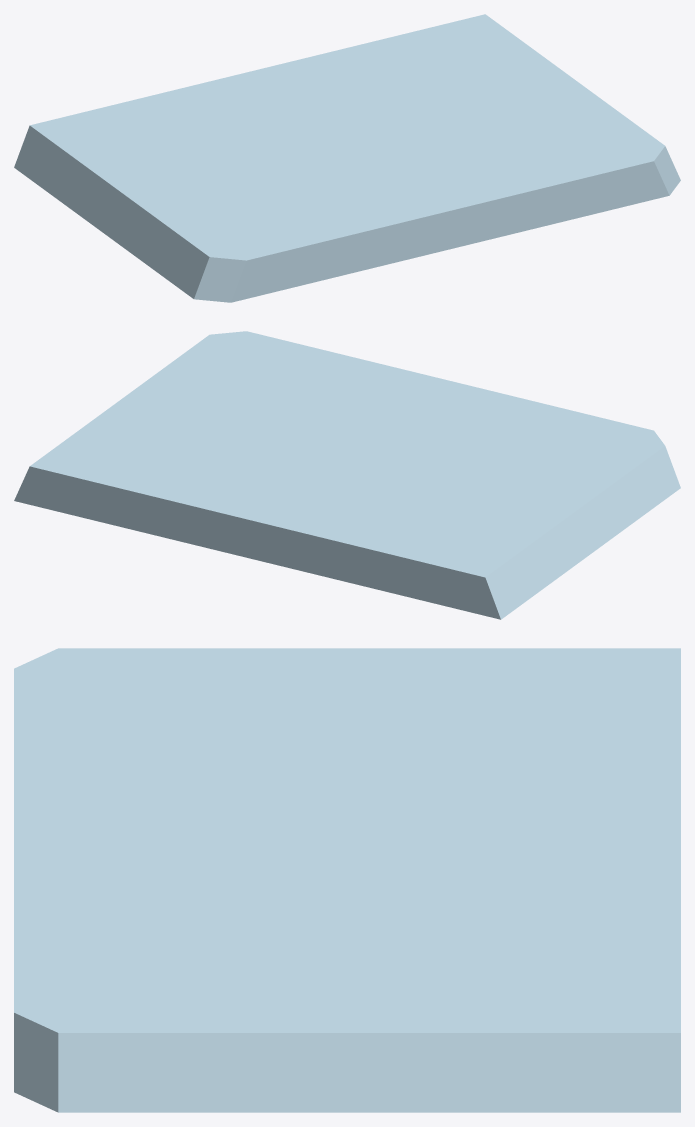
Rendered from STAM - A6.gltf.
3 views of the same model, one above another, from view 1: azimuth 30°, elevation 25°; view 2: azimuth 150°, elevation 25°; view 3: azimuth 270°, elevation 25° (orthographic). The views are drawn at different scales.
Parts seen in each view (by area): view 1: A6; view 2: A6; view 3: A6.
Boxes of the visible parts, bbox=[...] form: A6: bbox=[14, 14, 680, 302]; A6: bbox=[14, 331, 680, 619]; A6: bbox=[14, 648, 680, 1112].
Bounding box in the file's own units: 0.0219 × 0.00165 × 0.015.
